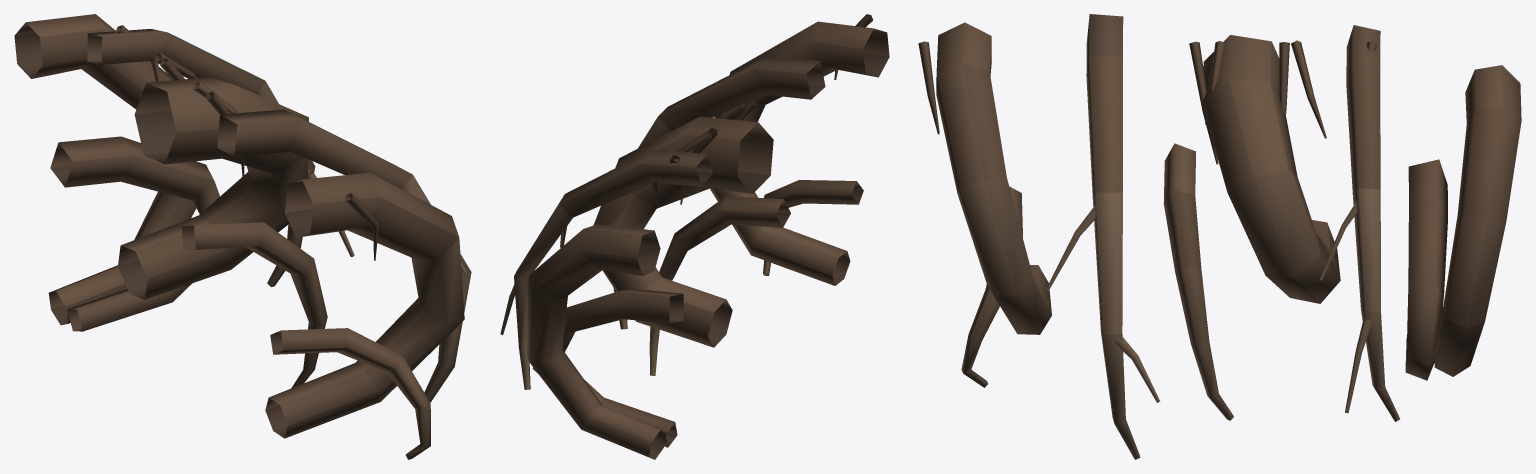
Rendered from CreekRoots_bark.glb.
The picture shows the model from 3 angles, left to right: view 1: azimuth 30°, elevation 25°; view 2: azimuth 150°, elevation 25°; view 3: azimuth 270°, elevation 25°; orthographic projection. The views are drawn at different scales.
Visible parts, largest first — view 1: CreekRoots_bark; view 2: CreekRoots_bark; view 3: CreekRoots_bark.
Boxes of the visible parts, x1=… form: CreekRoots_bark: x1=14, y1=14, x2=471, y2=459; CreekRoots_bark: x1=500, y1=14, x2=889, y2=459; CreekRoots_bark: x1=918, y1=14, x2=1521, y2=459.
Bounding box in the file's own units: 2.7 × 3.53 × 5.6.
